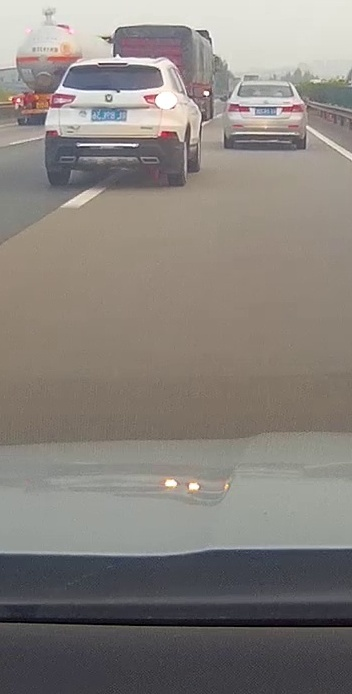L_light: (50, 93, 77, 108), (228, 103, 250, 112)
R_light: (144, 93, 178, 109), (281, 103, 304, 112)
T_light: (97, 62, 128, 66), (261, 84, 271, 87)
day-no: (224, 80, 306, 149)
day-right: (44, 57, 184, 186)
